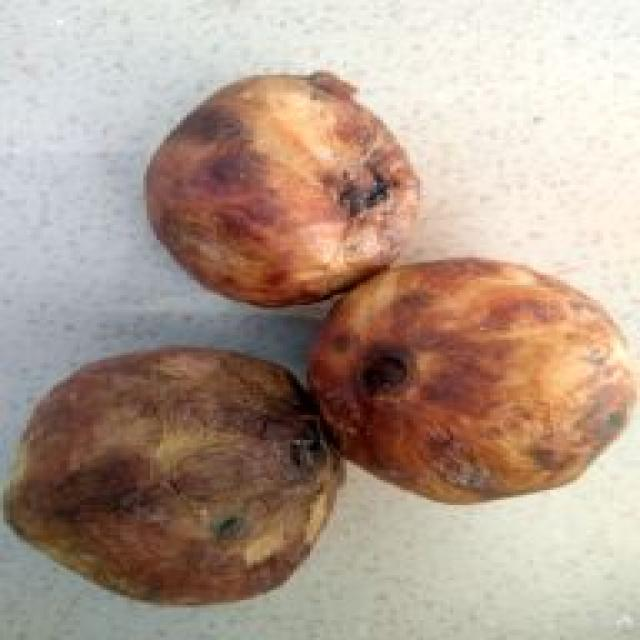Bad_Guava: (7, 348, 343, 603), (308, 259, 635, 502), (147, 72, 418, 306)
